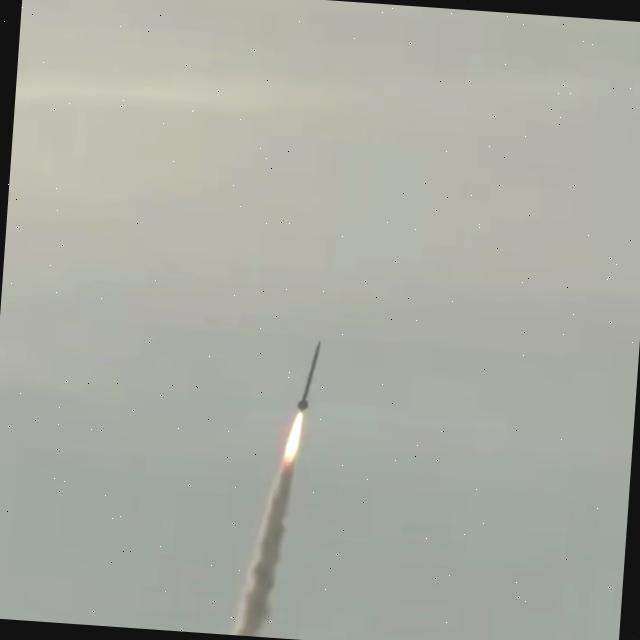rocket: (295, 341, 322, 409)
smoke_trail_with_rocket: (230, 344, 318, 637)
